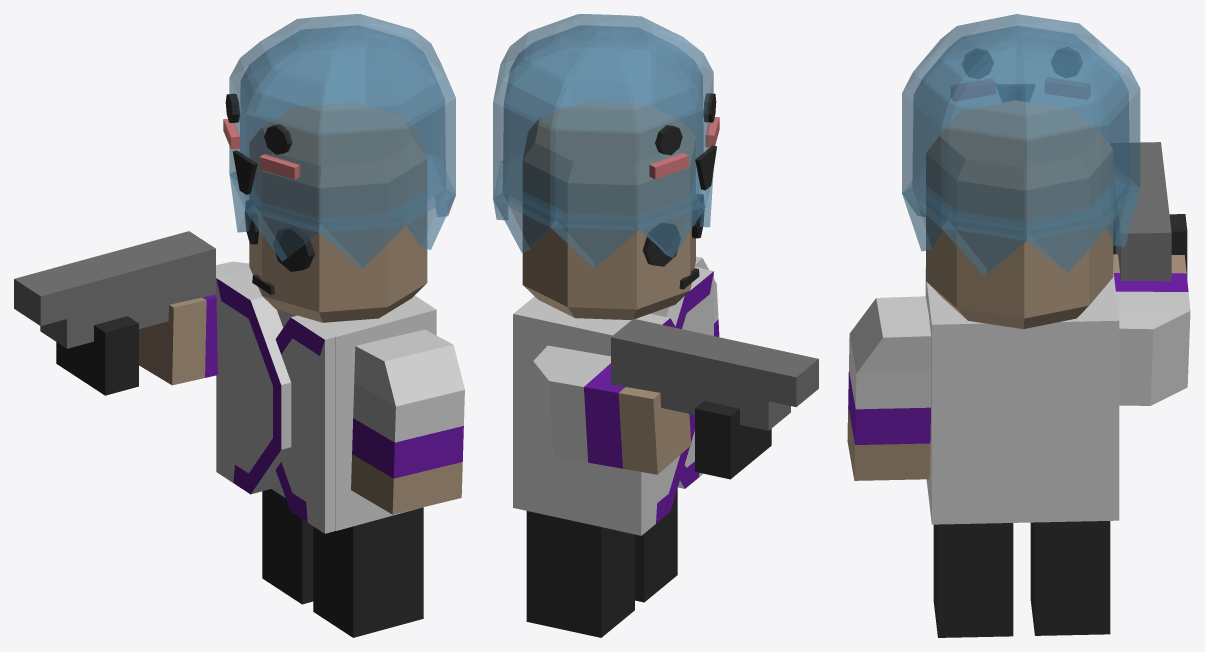
File: Player1Sketch.fbx
3 views of the same model, side by side, from view 1: azimuth 30°, elevation 25°; view 2: azimuth 150°, elevation 25°; view 3: azimuth 270°, elevation 25° (orthographic). The views are drawn at different scales.
Visible parts, largest first — view 1: Player1; view 2: Player1; view 3: Player1.
Boxes of the visible parts, x1,y1,x2,y2 form: Player1: [14, 14, 464, 637]; Player1: [493, 14, 818, 637]; Player1: [847, 14, 1190, 637].
Bounding box in the file's own units: 108 × 164 × 86.26.
